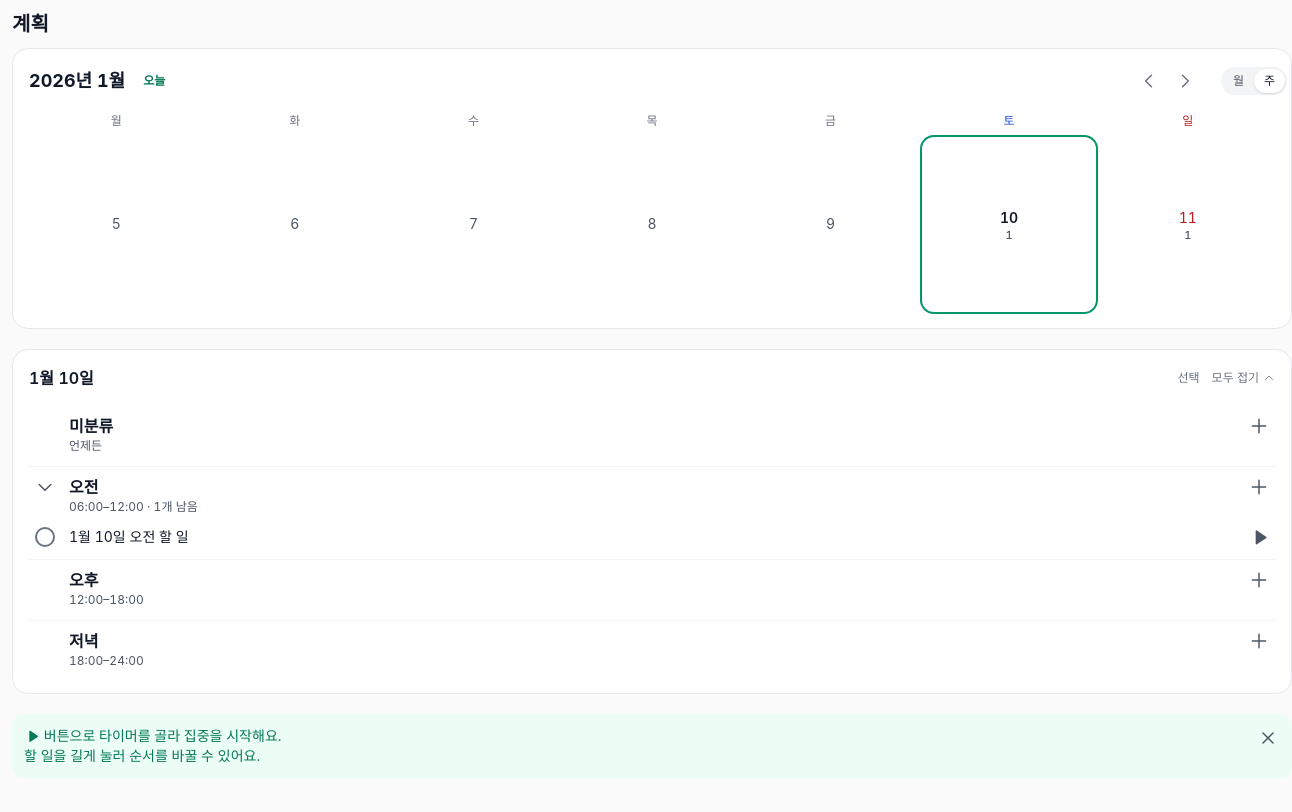
TodosPage › reinitializes section state when the selected date changes
Expected: the text "1월 10일 오전 할 일" is shown, [69,528,189,545]
Click the button named "1월 11일 ".
click(1188, 224)  # box [1100,137,1275,312]
Wait 700 ms
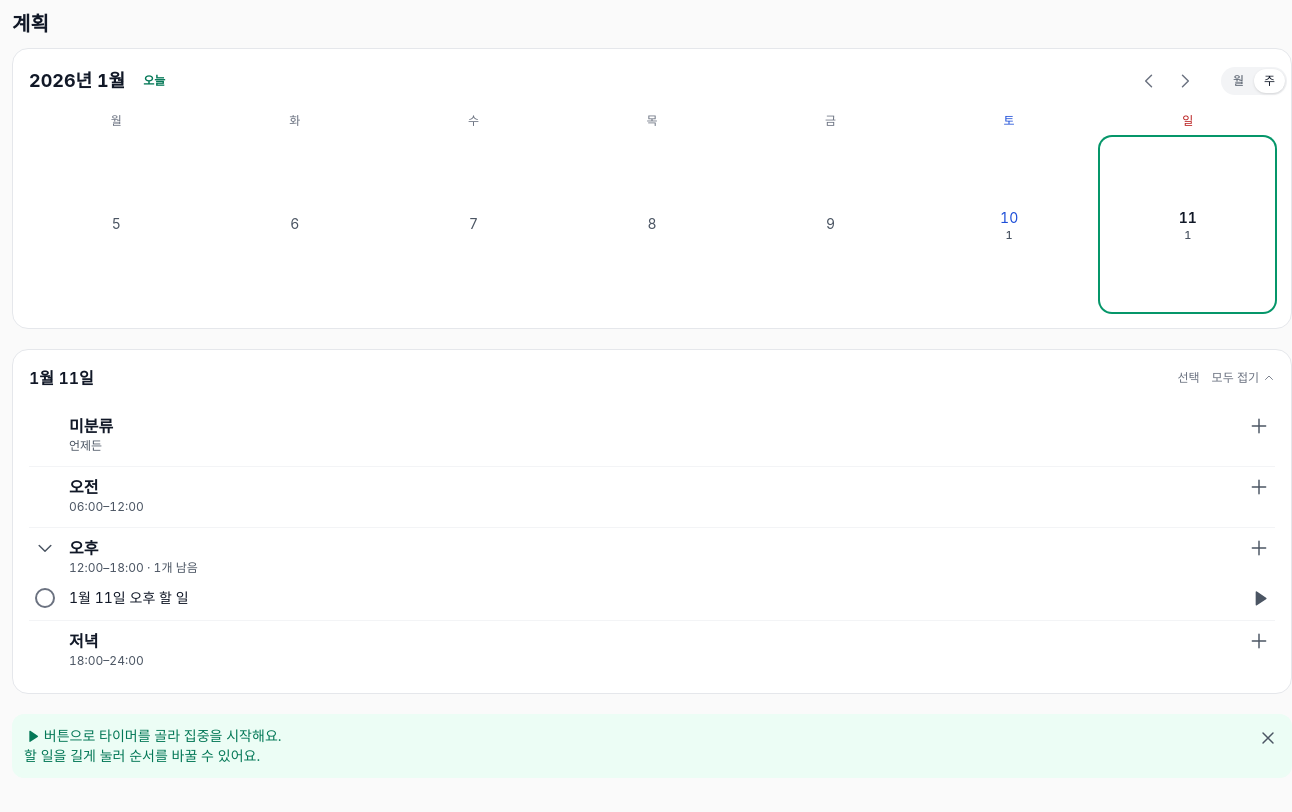
Expected: the heading named "미분류 할 일 추가" is shown, [29,410,1275,466]
Expected: the text "1월 11일 오후 할 일" is shown, [69,589,189,606]
Expected: the button "1월 10일 오전 할 일" is gone
